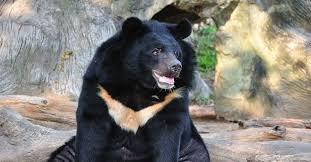bear: (46, 16, 210, 162)
